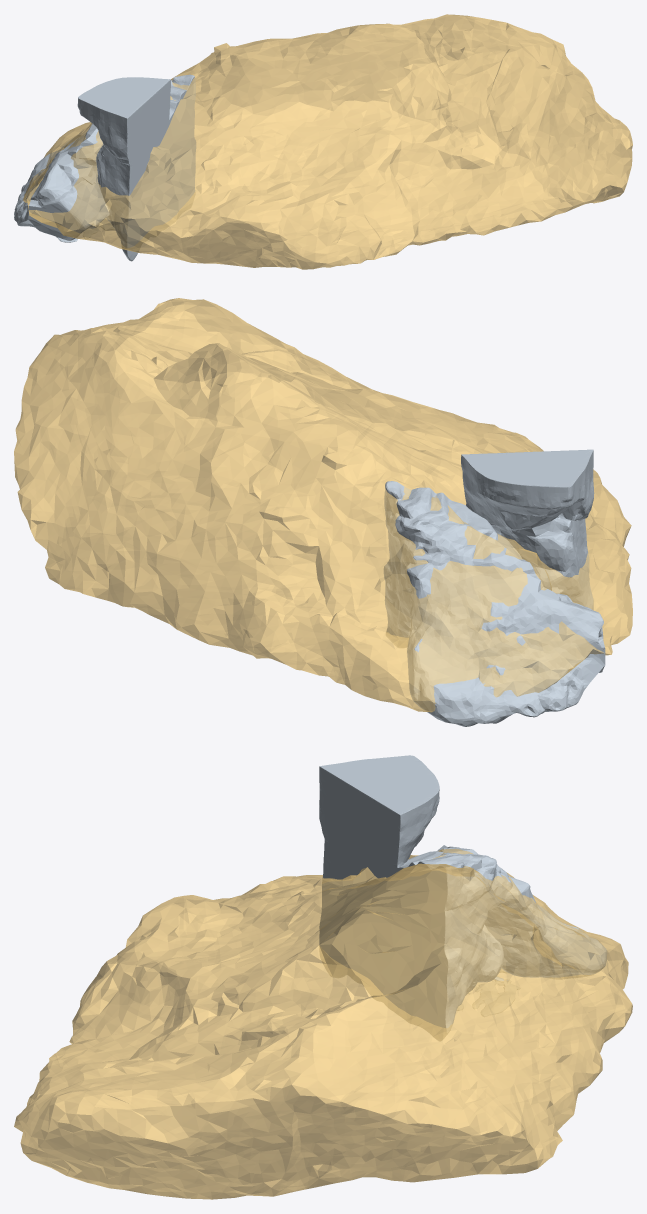
3 views of the same model, one above another, from view 1: azimuth 30°, elevation 25°; view 2: azimuth 150°, elevation 25°; view 3: azimuth 270°, elevation 25° (orthographic). The views are drawn at different scales.
Visible parts, largest first — view 1: truth, imagination; view 2: truth, imagination; view 3: truth, imagination.
Part boxes in pixels (bbox=[...]): truth: bbox=[23, 14, 632, 269]; imagination: bbox=[14, 74, 195, 261]; truth: bbox=[14, 298, 632, 712]; imagination: bbox=[384, 449, 605, 726]; truth: bbox=[14, 848, 632, 1199]; imagination: bbox=[319, 755, 606, 1040].
Bounding box in the file's own units: 1.34 × 0.4399 × 1.07.
